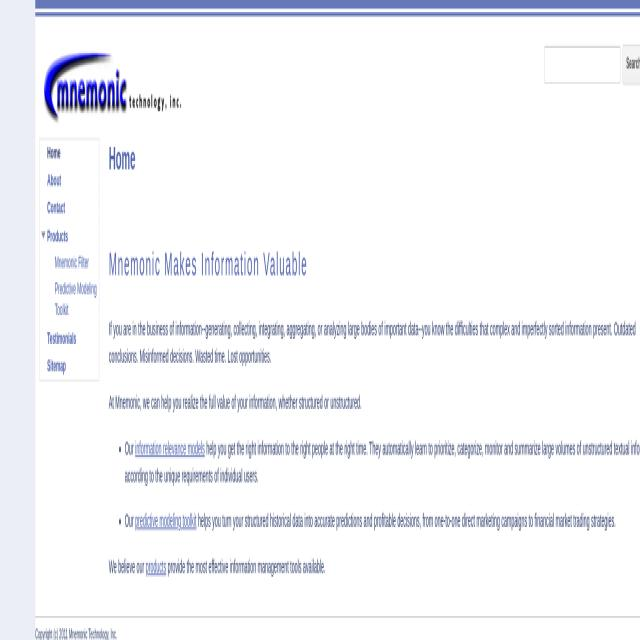button: (44, 45, 186, 123), (623, 46, 640, 83)
field: (545, 47, 620, 84)
